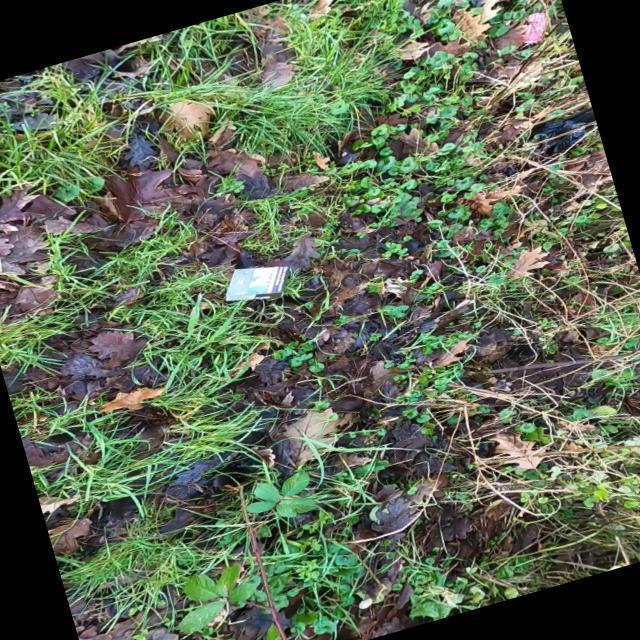Paper: (224, 265, 291, 303)
